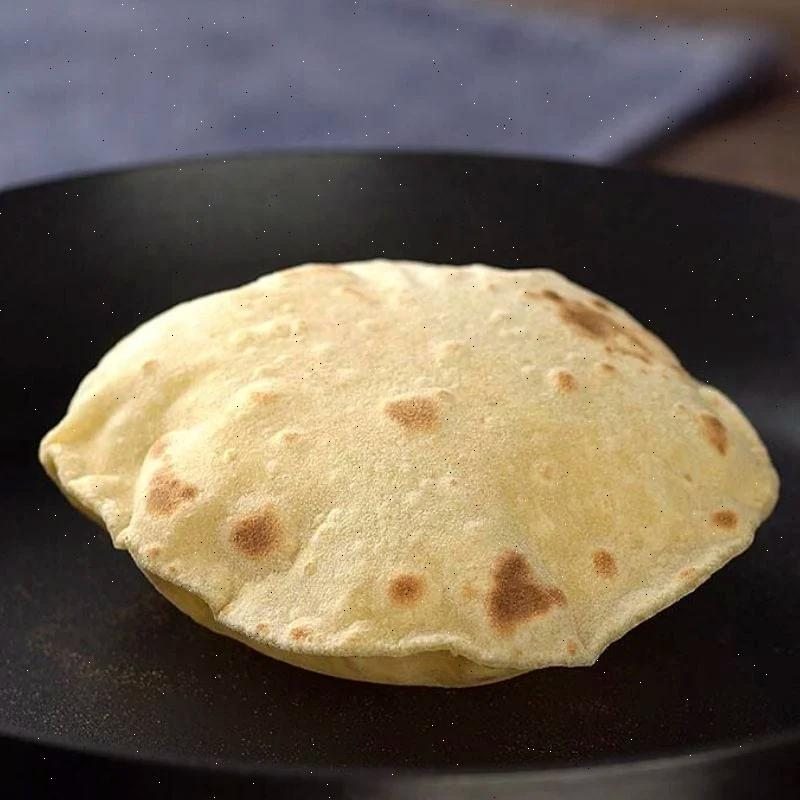roti phulka: (33, 254, 785, 692)
